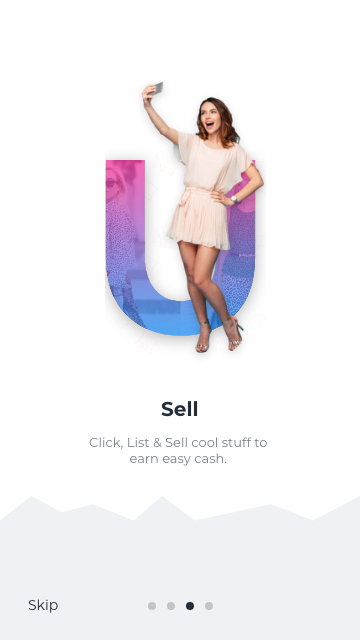Image: (105, 81, 266, 354)
PageIndicator: (148, 601, 214, 611)
Text: (90, 436, 268, 467), (162, 401, 198, 417), (29, 599, 59, 614)
